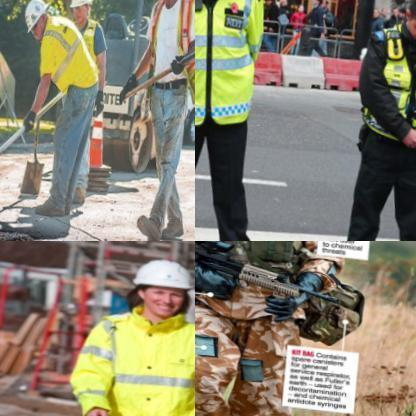vest: (63, 294, 194, 415), (195, 0, 278, 129), (195, 241, 312, 287), (373, 17, 415, 143), (41, 11, 107, 88), (146, 0, 194, 94), (72, 12, 109, 63)
